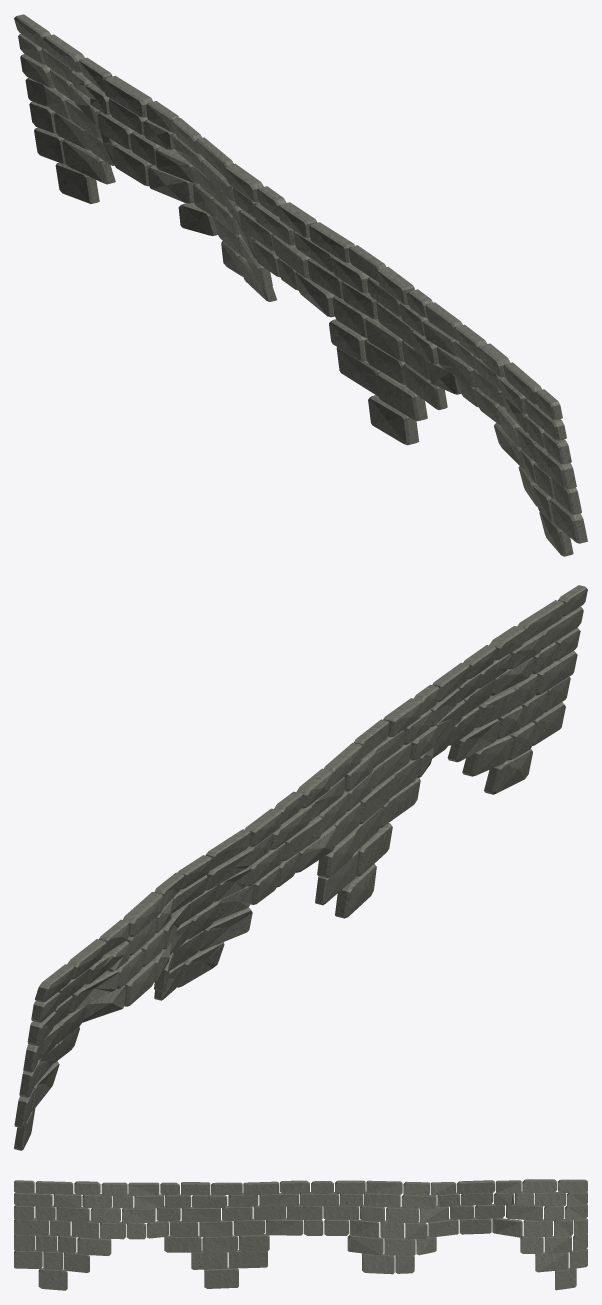
The model's file is LandingShoulder.fbx.
3 views of the same model, one above another, from view 1: azimuth 30°, elevation 25°; view 2: azimuth 150°, elevation 25°; view 3: azimuth 270°, elevation 25° (orthographic). The views are drawn at different scales.
Parts seen in each view (by area): view 1: LandingShoulder_LOD0; view 2: LandingShoulder_LOD0; view 3: LandingShoulder_LOD0.
Part boxes in pixels (x1,y1,x2,y2): LandingShoulder_LOD0: [14, 14, 587, 556]; LandingShoulder_LOD0: [14, 585, 587, 1150]; LandingShoulder_LOD0: [14, 1179, 587, 1290].
Size of what is drawn, in the model's own units: 1.41 by 3.99 by 21.29.
1 material, 1 textured.
